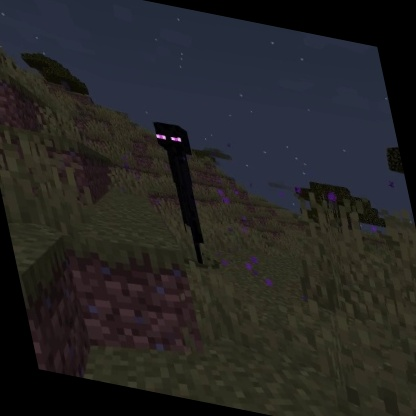enderman: (149, 118, 220, 268)
